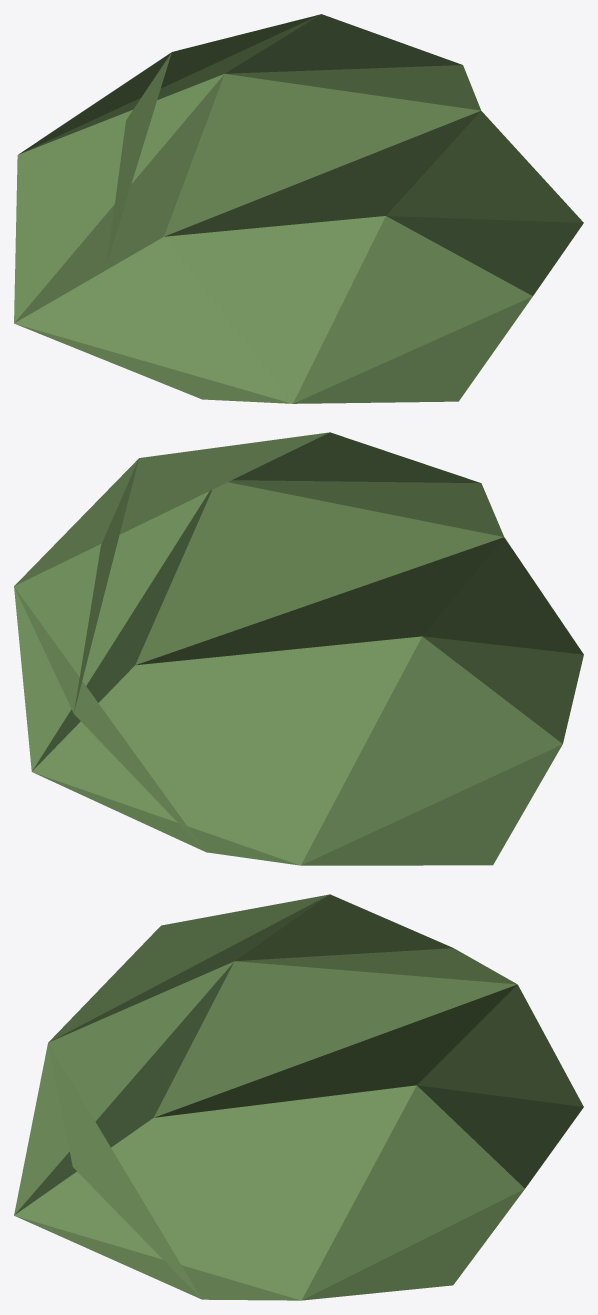
Rendered from bush_1.glb.
3 renders of one model, top to bottom at view 1: azimuth 30°, elevation 25°; view 2: azimuth 150°, elevation 25°; view 3: azimuth 270°, elevation 25°, orthographic. The views are drawn at different scales.
Bounding box in the file's own units: 2.16 × 1.6 × 2.27.
